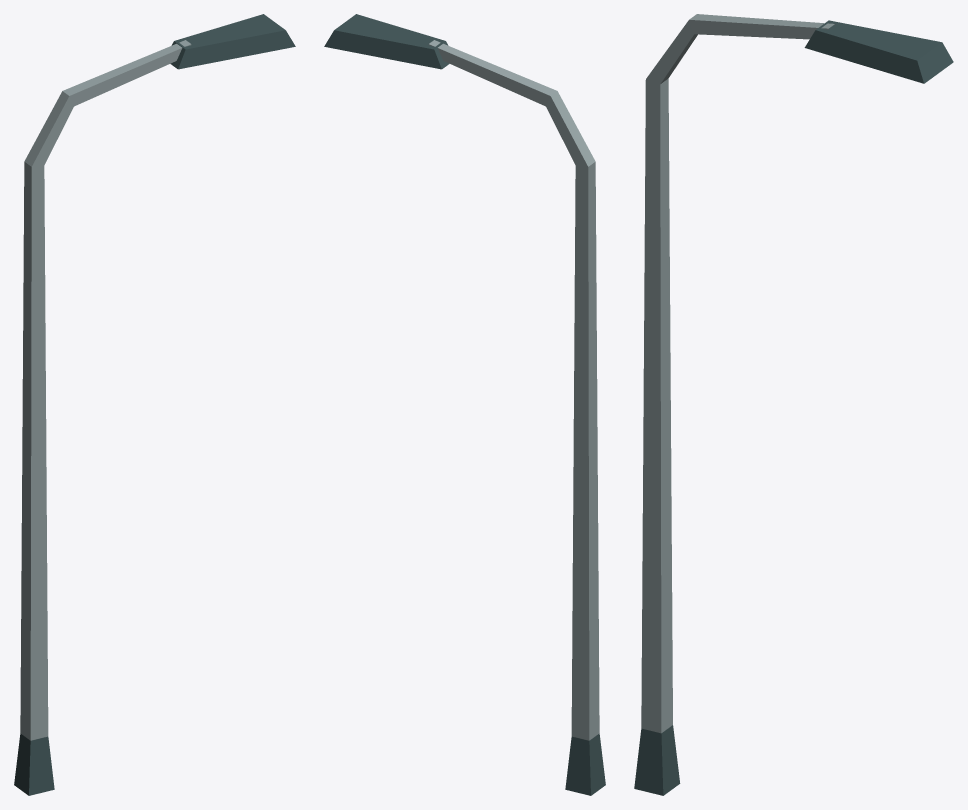
File: streetlight.glb
3 views of the same model, side by side, from view 1: azimuth 30°, elevation 25°; view 2: azimuth 150°, elevation 25°; view 3: azimuth 330°, elevation 25° (orthographic). The views are drawn at different scales.
Parts seen in each view (by area): view 1: Streetlight; view 2: Streetlight; view 3: Streetlight.
Part boxes in pixels (left/top/right/bottom): Streetlight: left=14, top=14, right=295, bottom=795; Streetlight: left=324, top=14, right=605, bottom=795; Streetlight: left=634, top=14, right=953, bottom=795.
Bounding box in the file's own units: 2.08 × 5.39 × 0.36.
